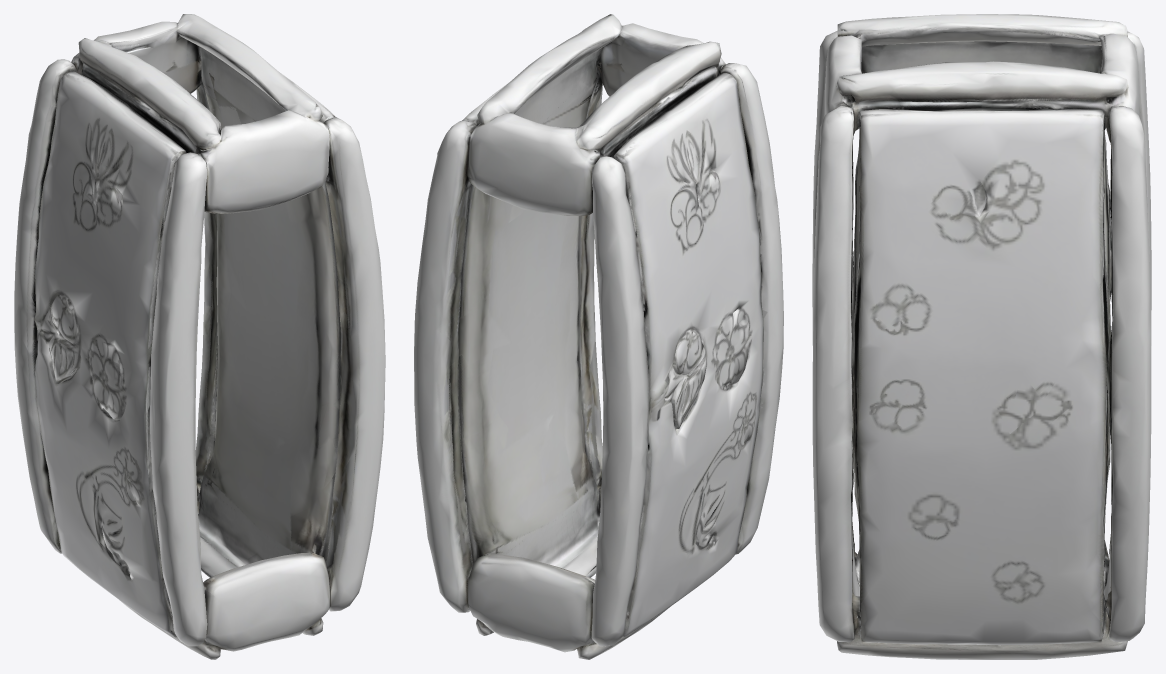
File: A_modular_Italian_cha_0516064652_texture.glb
3 renders of one model, left to right at view 1: azimuth 30°, elevation 25°; view 2: azimuth 150°, elevation 25°; view 3: azimuth 270°, elevation 25°, orthographic. The views are drawn at different scales.
Size of the model in its own units: 0.8884 by 2 by 1.04.
1 material, 1 textured.
